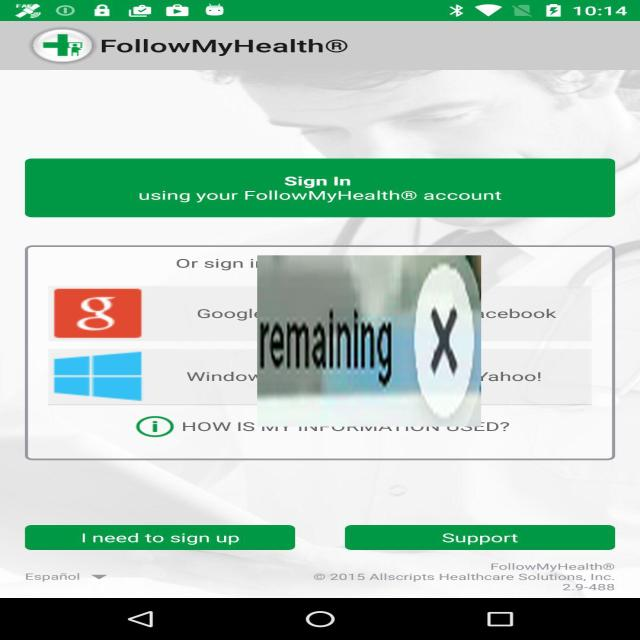misdirection: (257, 255, 481, 427)
